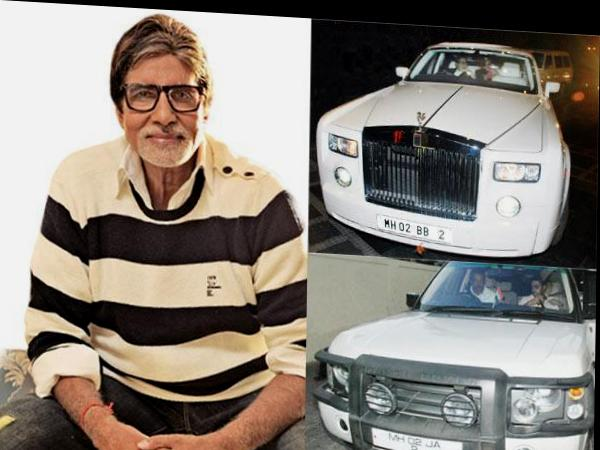License_Plate: (375, 213, 451, 246), (370, 426, 469, 450)
